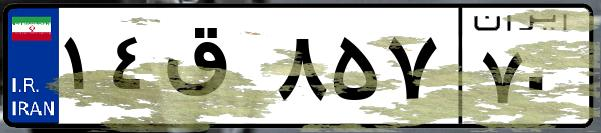0: (525, 38, 570, 115)
1: (57, 26, 110, 100)
4: (110, 28, 158, 98)
5: (330, 28, 385, 110)
7: (385, 28, 445, 110), (475, 38, 525, 113)
8: (270, 28, 330, 110)
ق: (158, 20, 270, 120)
